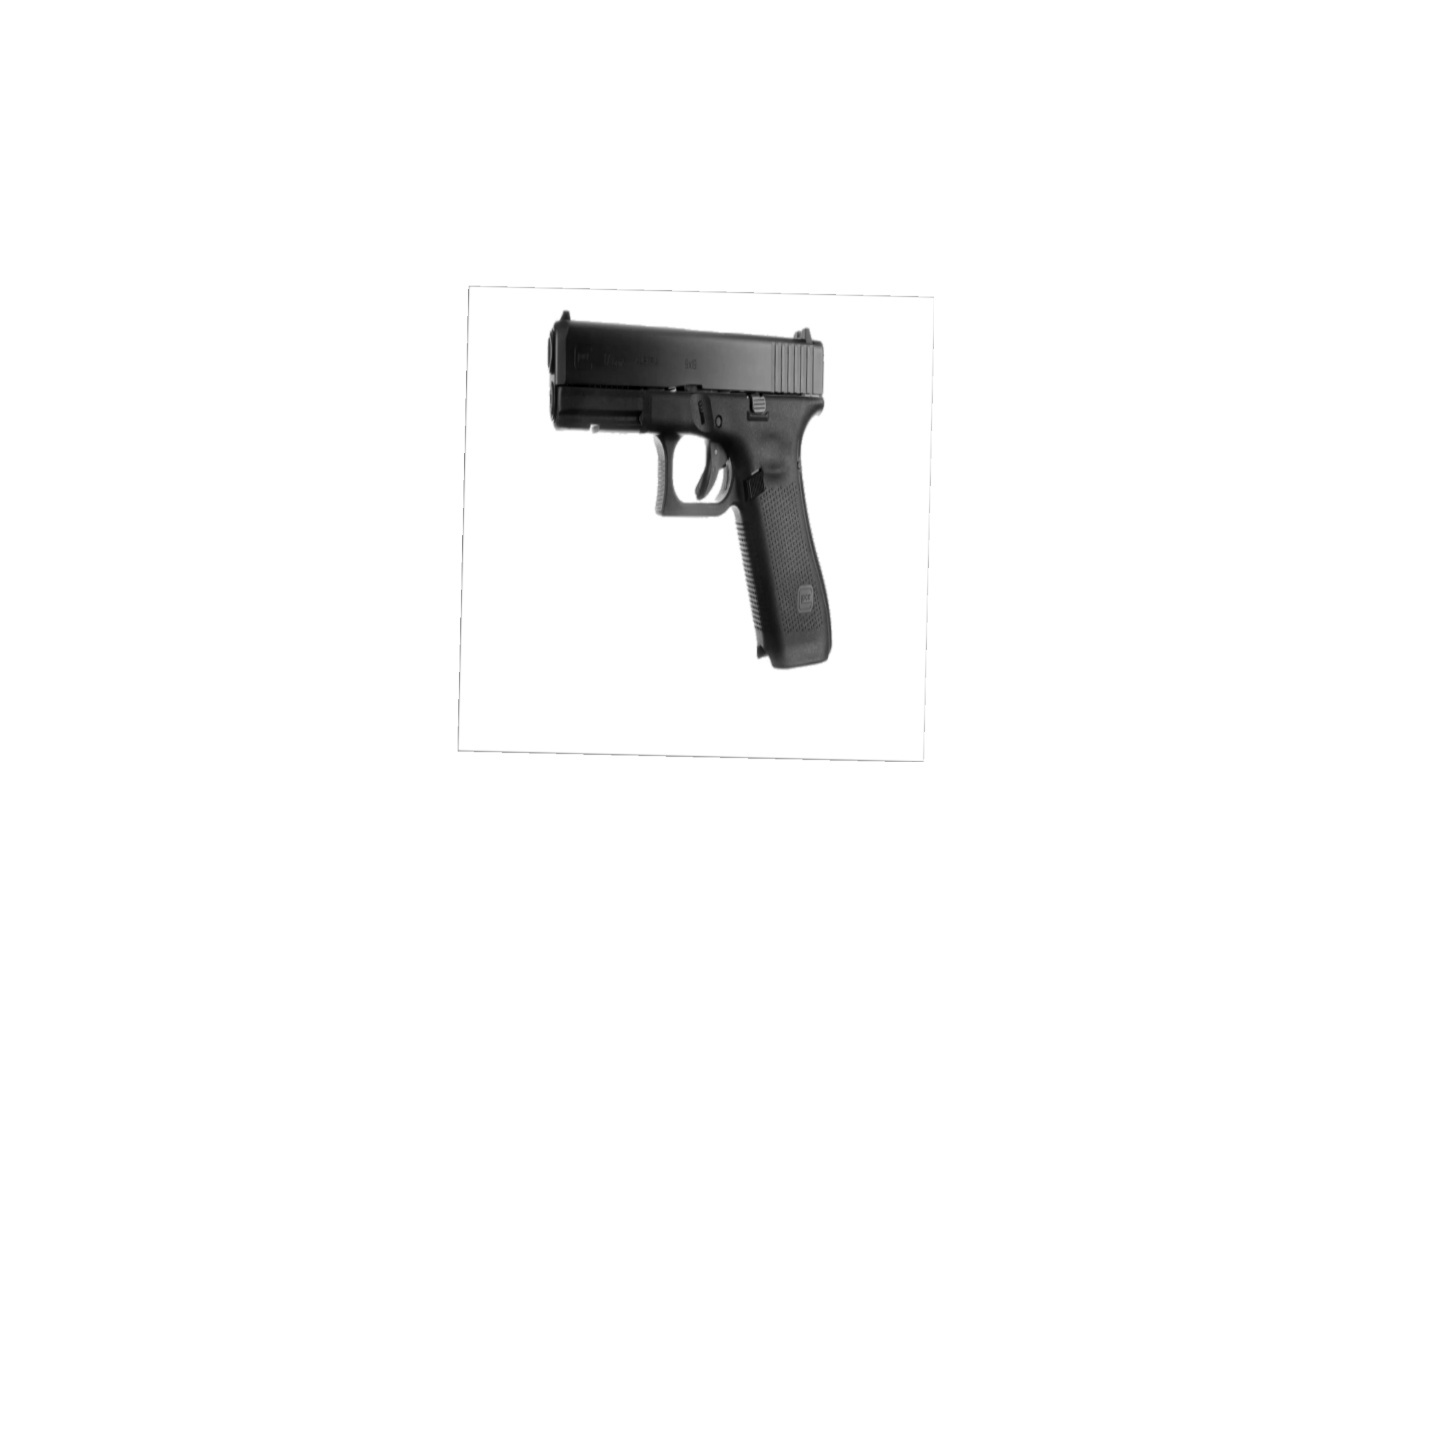gun: (545, 309, 831, 672)
